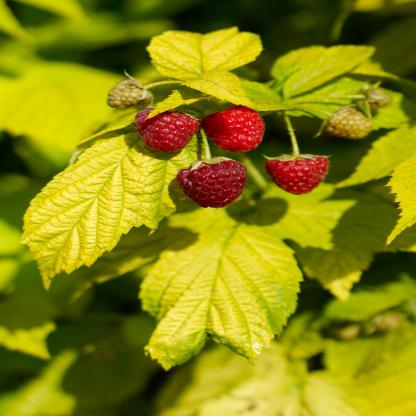raspberry leaf: (19, 108, 201, 292), (138, 225, 306, 370), (146, 23, 270, 81), (174, 69, 257, 108)
